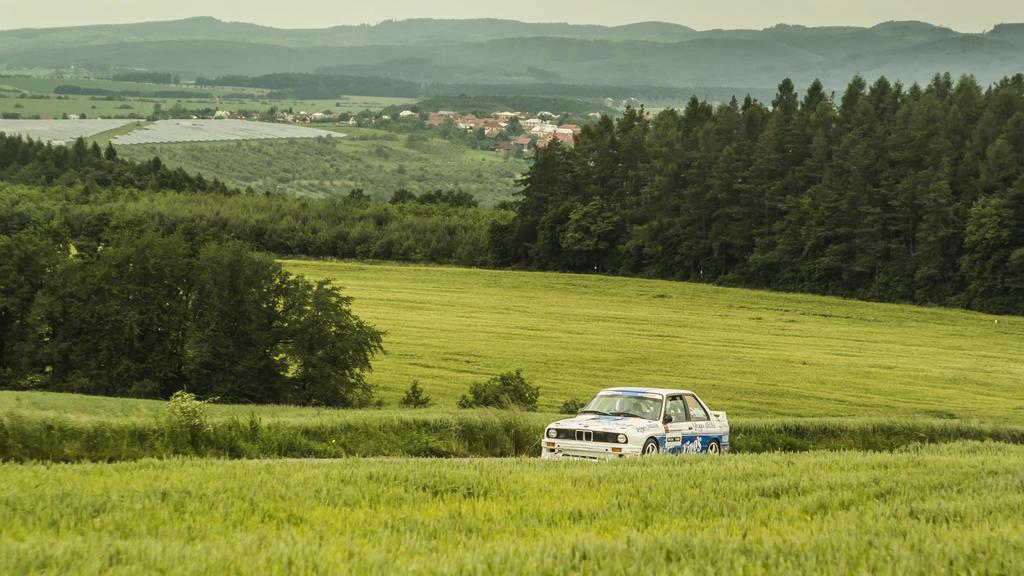Car: (542, 376, 735, 469)
